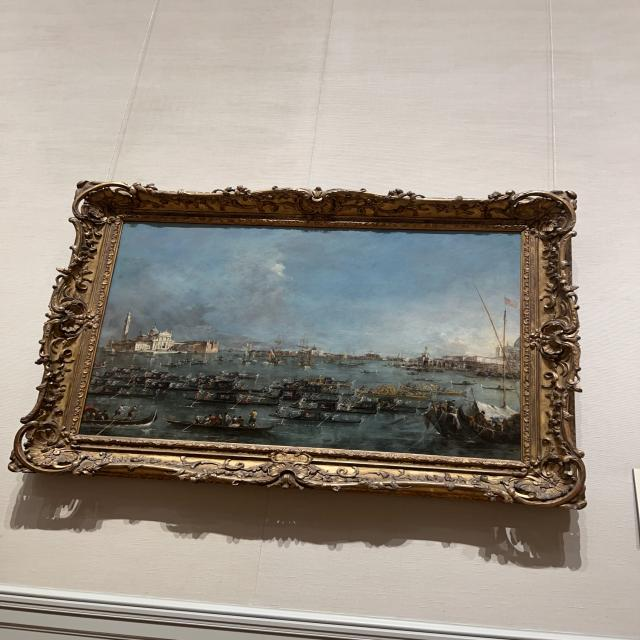ships: (86, 230, 517, 454)
